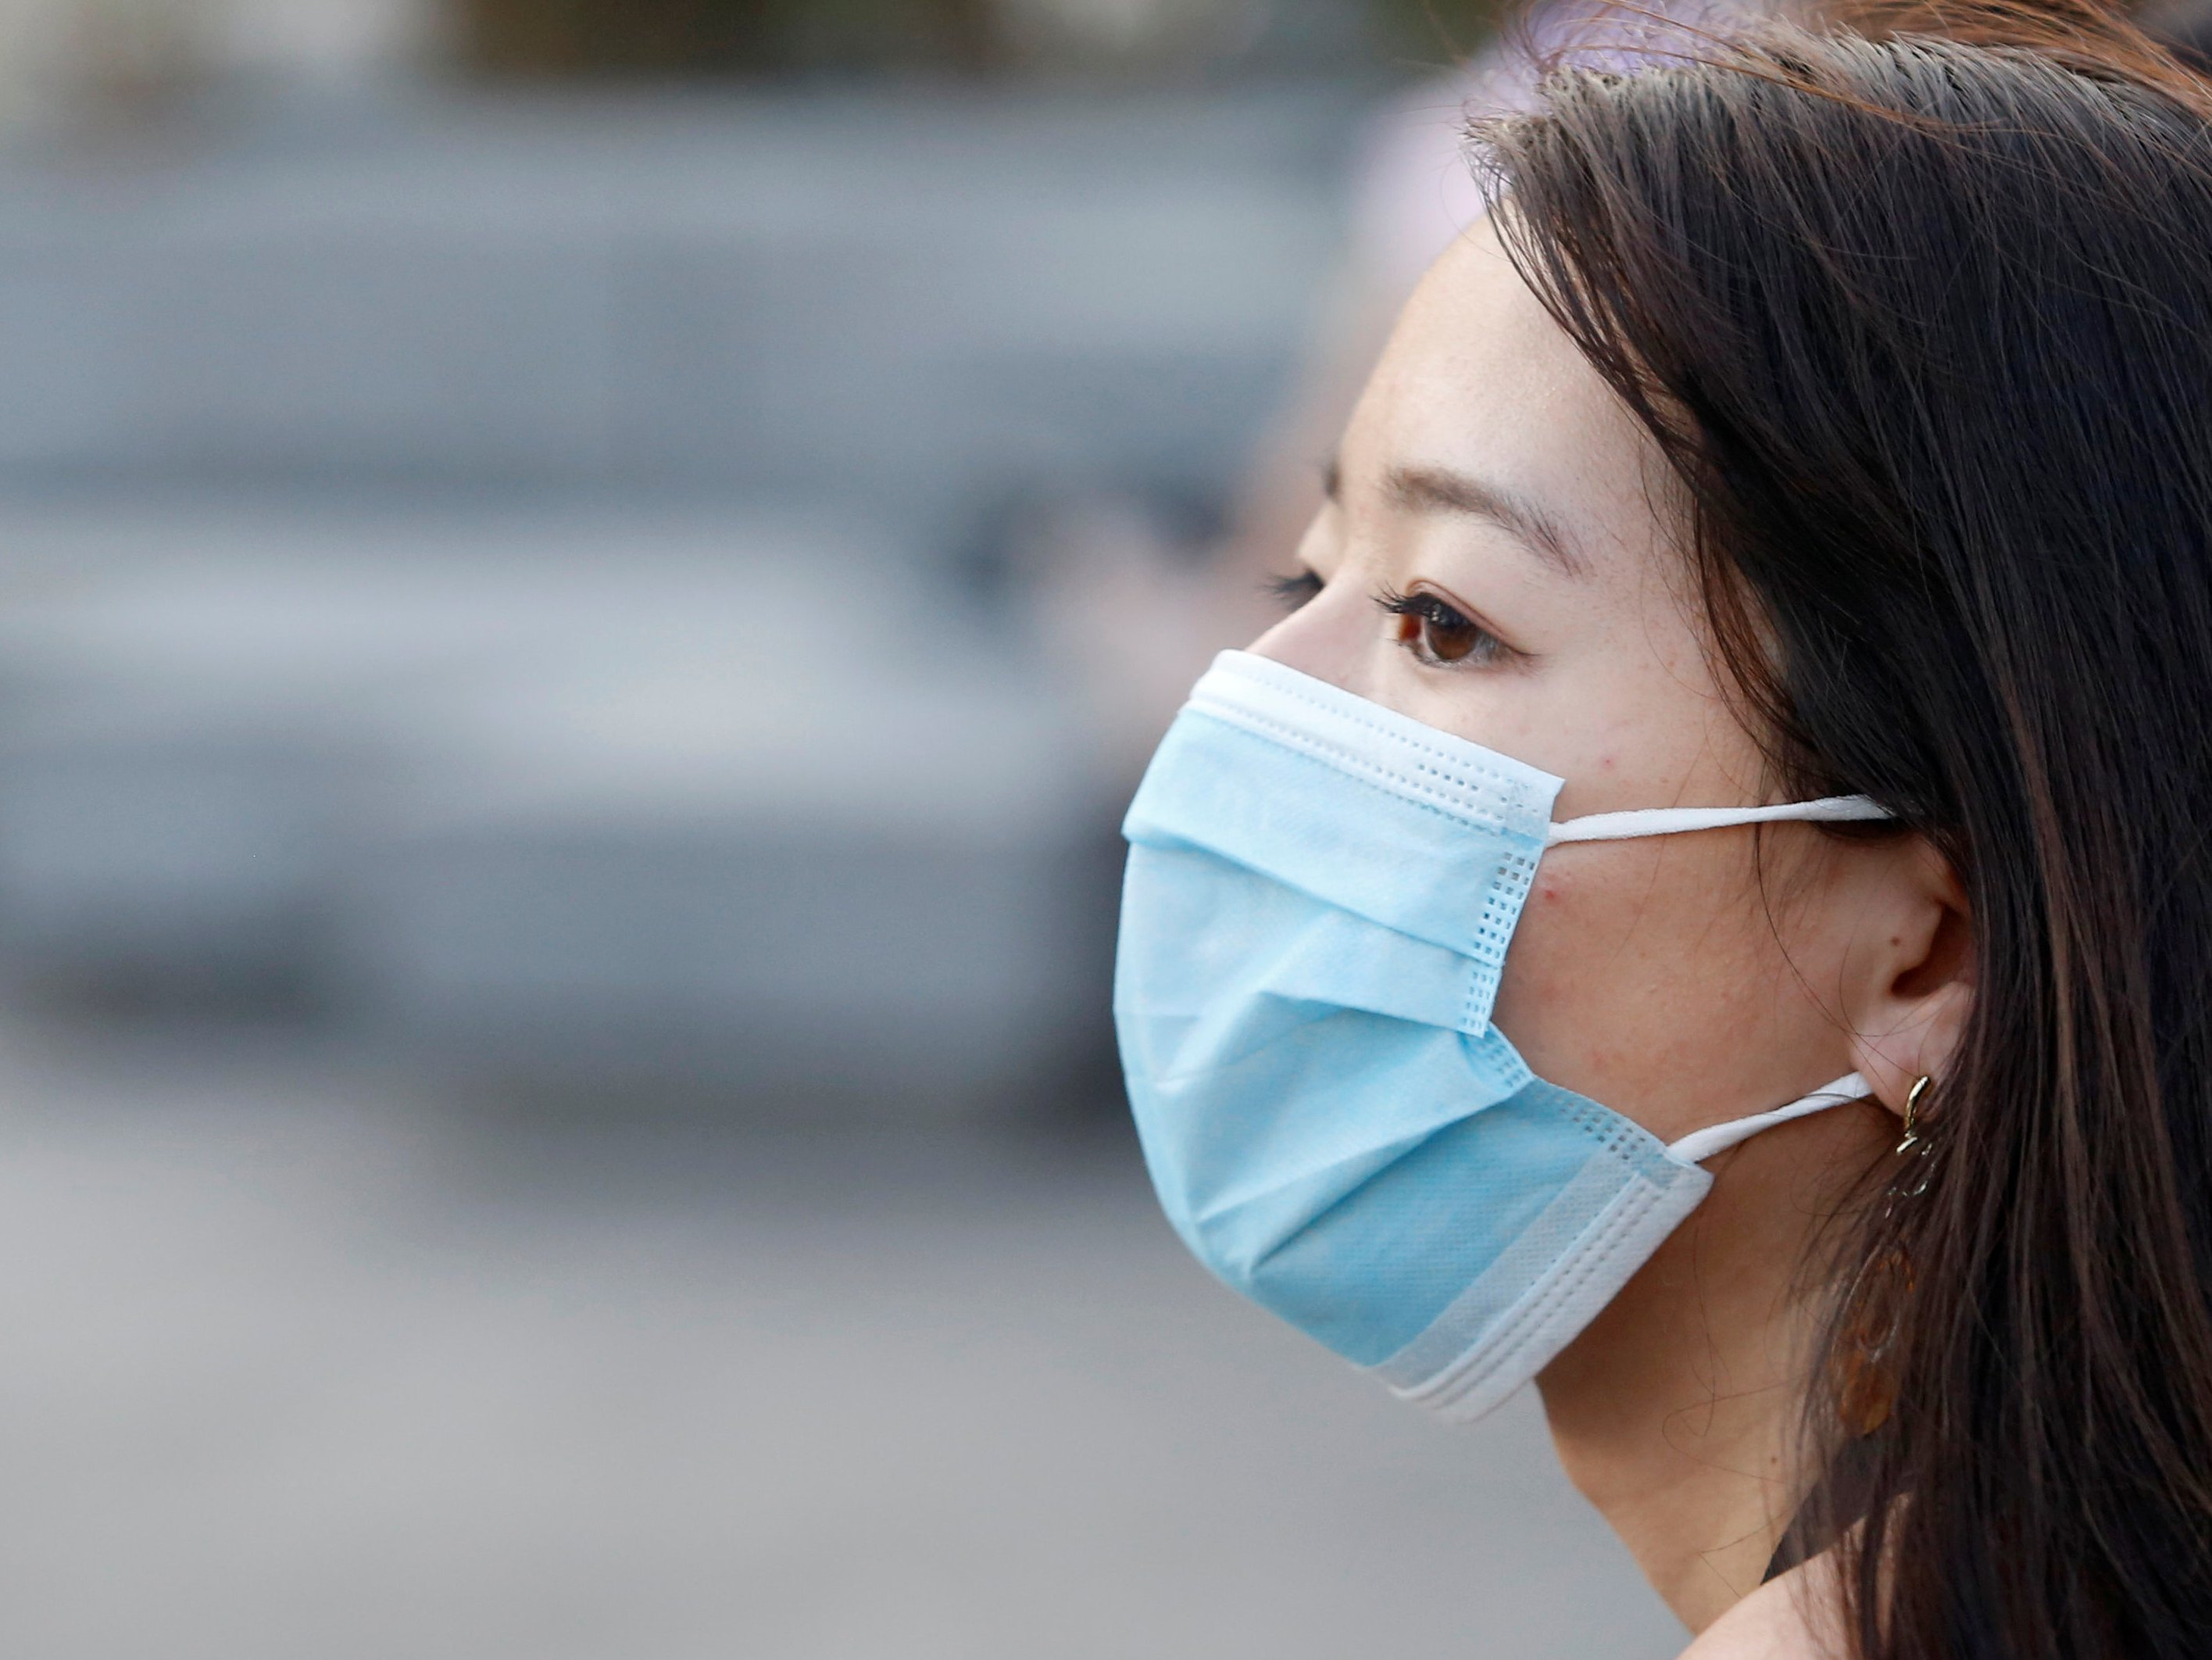mask: (1047, 28, 2212, 1394)
